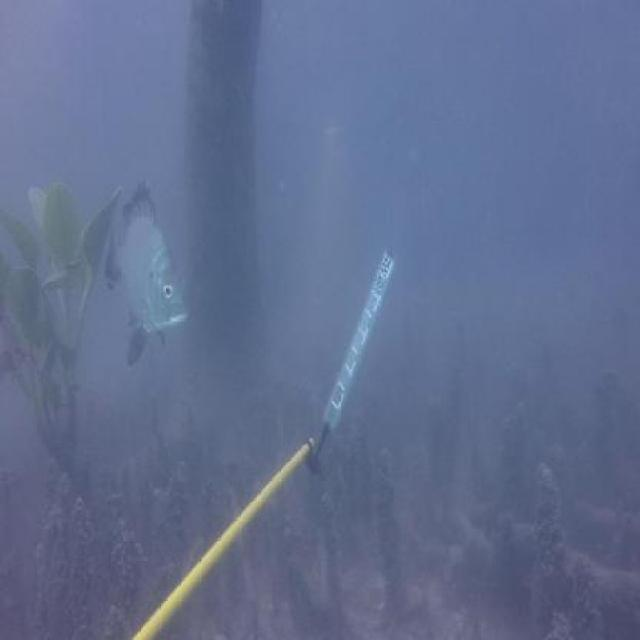acanthopagrus_palmaris: (102, 176, 195, 370)
